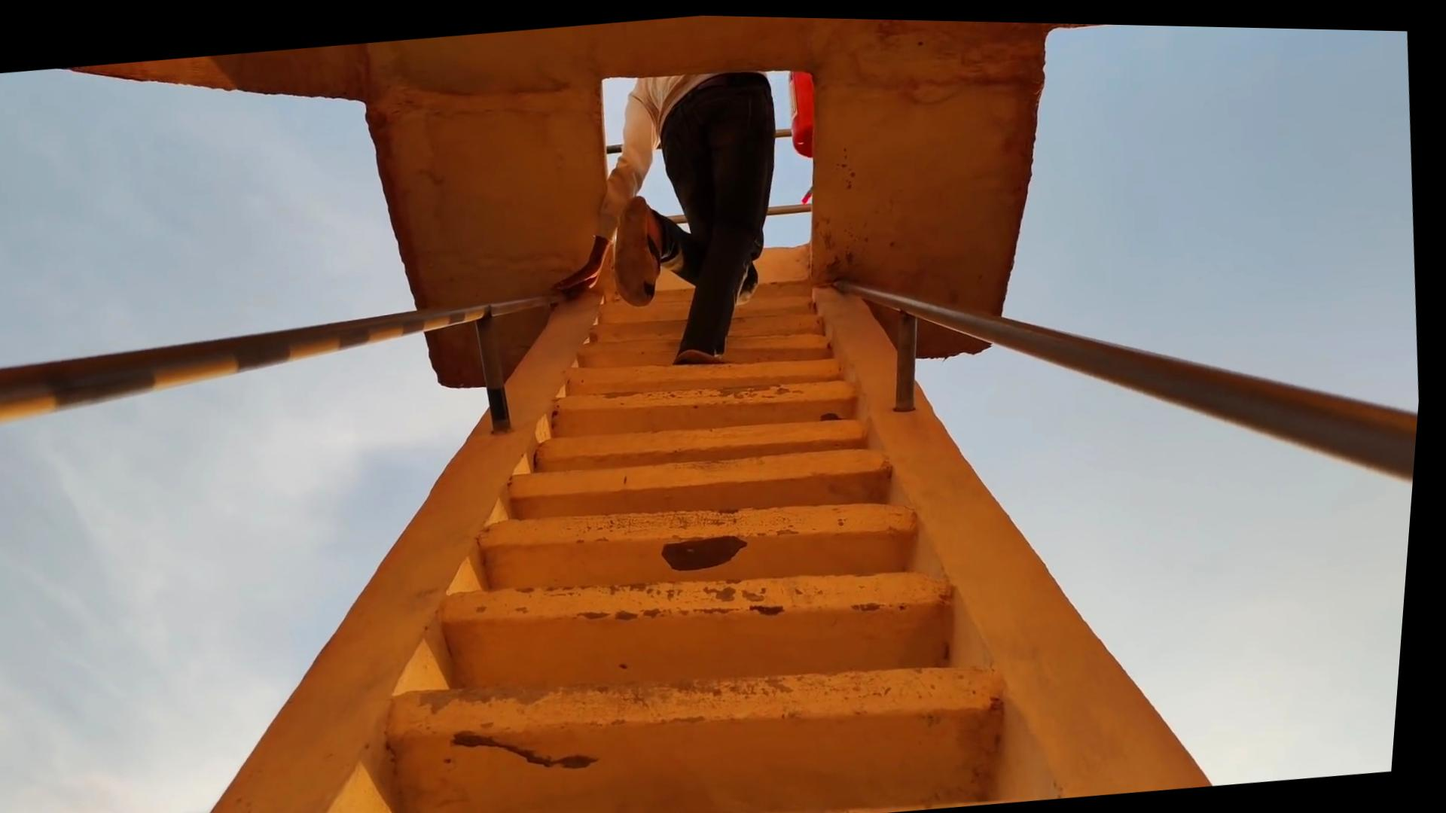FireExtinguisher: (776, 55, 845, 155)
